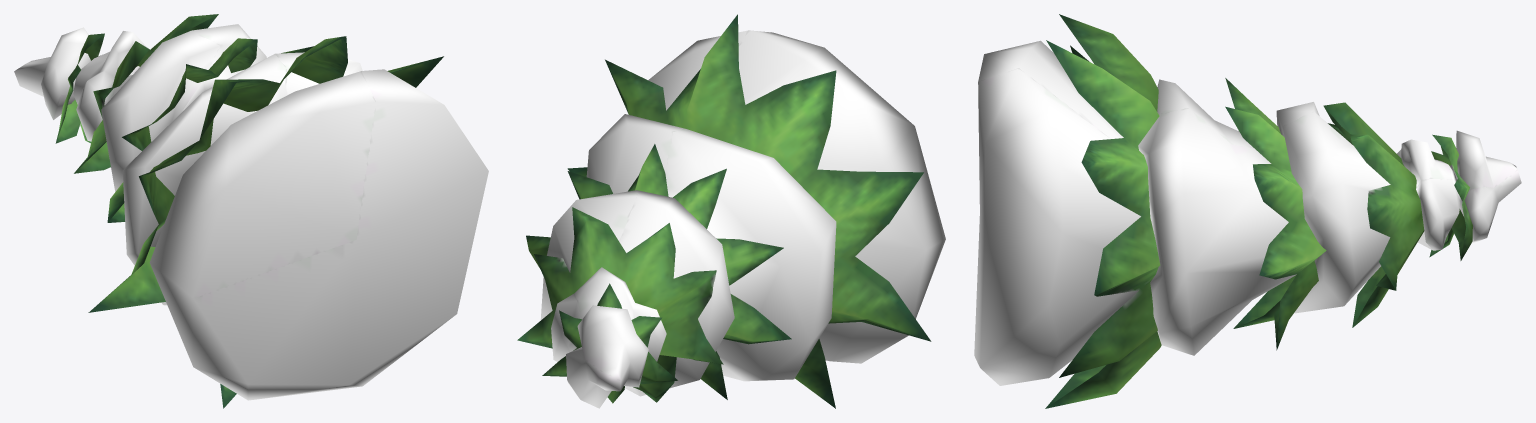
File: Tree.fbx
3 views of the same model, side by side, from view 1: azimuth 30°, elevation 25°; view 2: azimuth 150°, elevation 25°; view 3: azimuth 270°, elevation 25° (orthographic). The views are drawn at different scales.
Parts seen in each view (by area): view 1: Tree; view 2: Tree; view 3: Tree.
Part boxes in pixels (x1,y1,x2,y2): Tree: [14, 14, 488, 408]; Tree: [517, 14, 945, 408]; Tree: [974, 14, 1521, 408].
Size of the model in its own units: 179 by 164 by 218.
